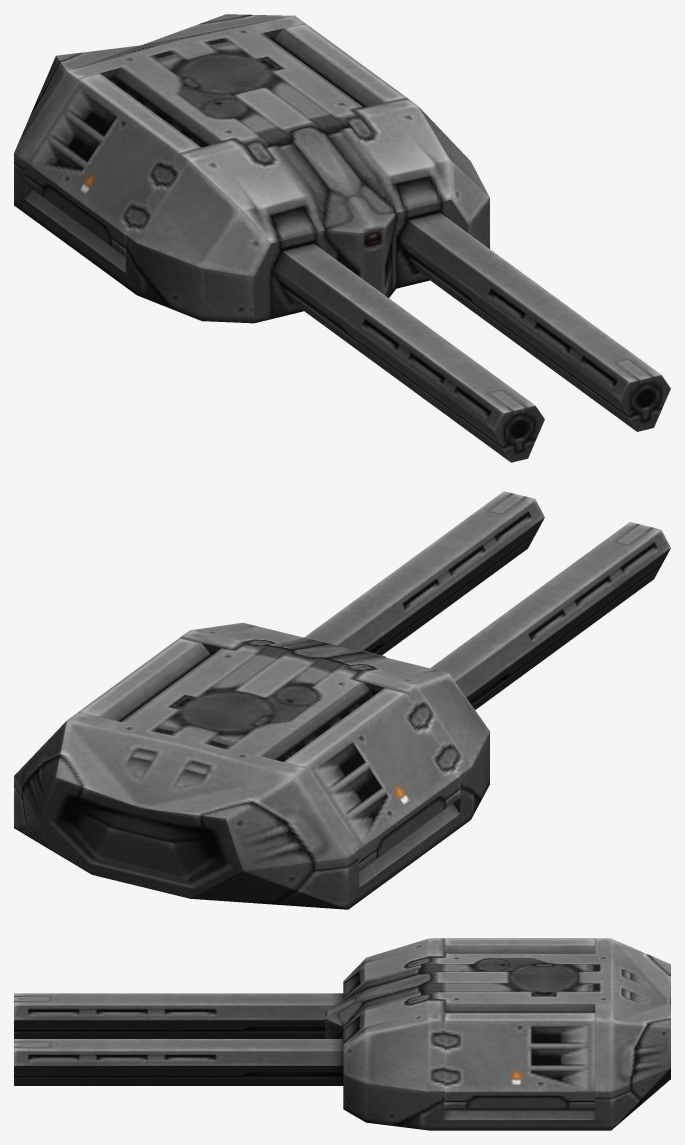
Rendered from term_tk.gltf.
3 renders of one model, top to bottom at view 1: azimuth 30°, elevation 25°; view 2: azimuth 150°, elevation 25°; view 3: azimuth 270°, elevation 25°, orthographic. The views are drawn at different scales.
Parts seen in each view (by area): view 1: turret; view 2: turret; view 3: turret.
Boxes of the visible parts, left/top/right/bottom form: turret: left=14, top=14, right=670, bottom=462; turret: left=14, top=491, right=670, bottom=909; turret: left=14, top=938, right=670, bottom=1130.
Size of the model in its own units: 2.4 by 0.8615 by 5.5.
Materials: 1 (1 with a texture image).
